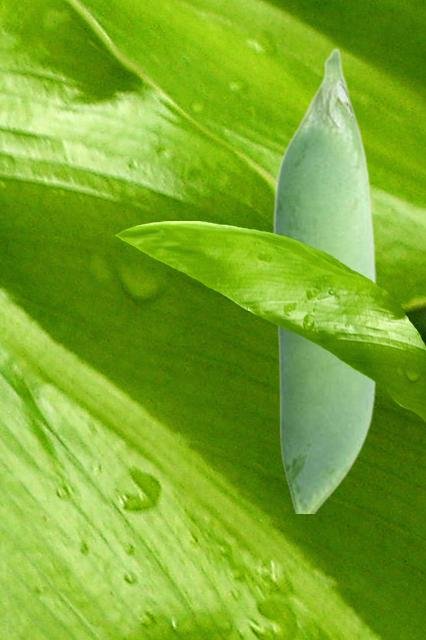pea: (272, 47, 375, 512)
